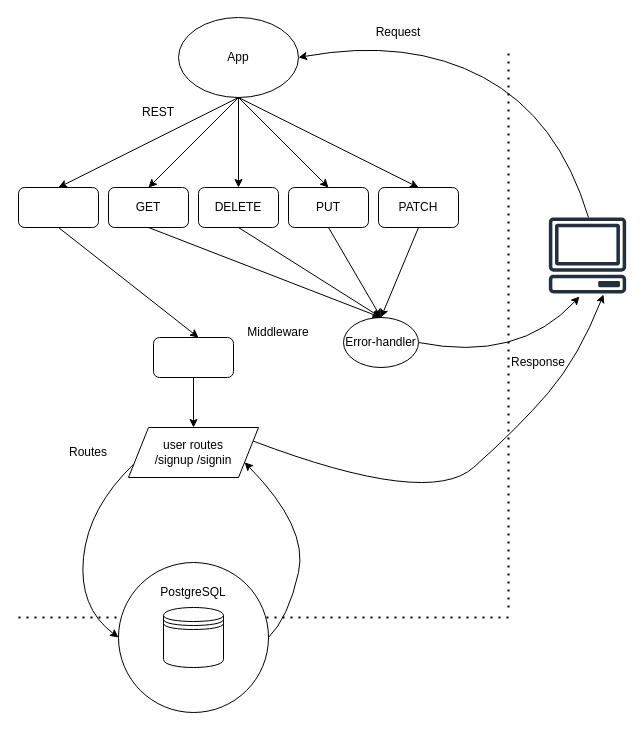
This 643x730 diagram has some shape labels left out. The shapes that lost their labels are listed below. From the top down, each one's box as (x1, y1, x2, y2) in pixels, then its label:
(18, 186, 98, 228): POST
(548, 217, 626, 293): Client
(152, 336, 234, 378): basicAuth
(162, 606, 224, 668): users table
